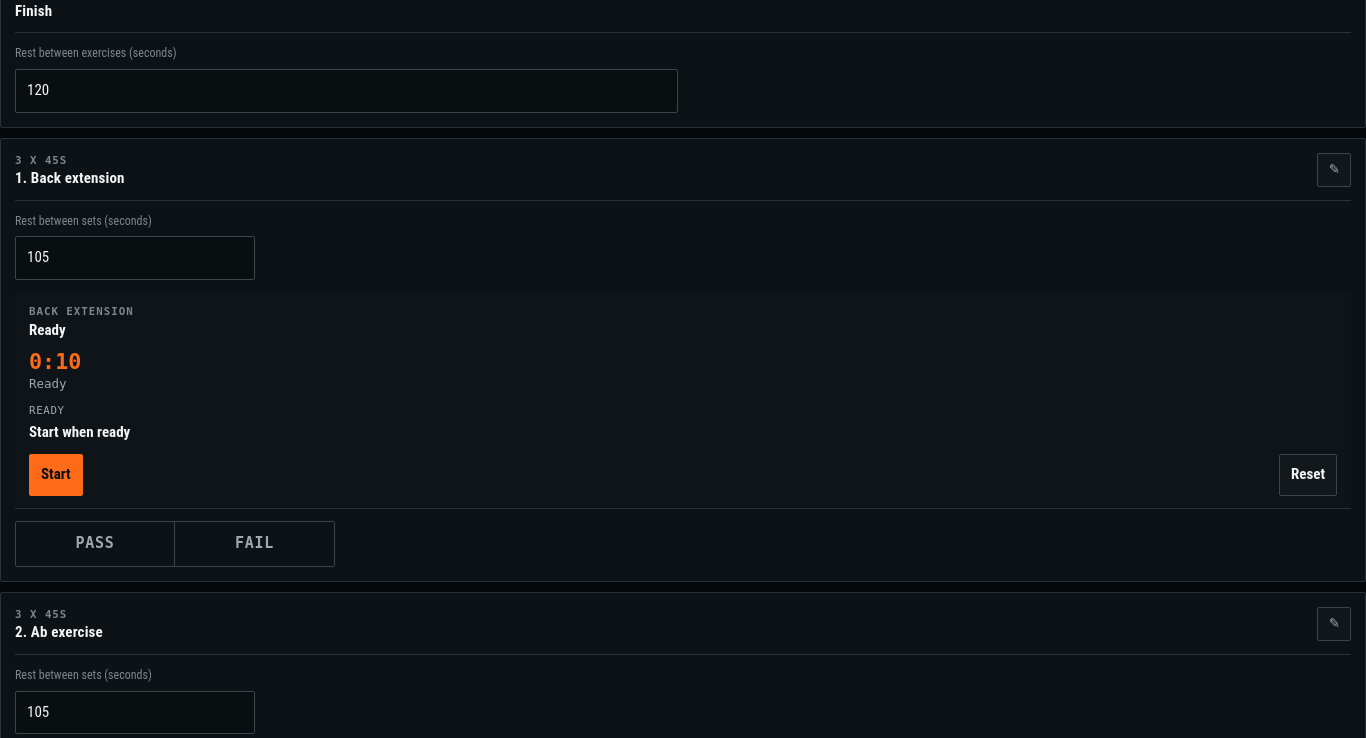
Test: FinishWorkoutScreen › allows only one manually started Finish exercise timer to run
Click the button "Start" at (56,475), box x1=29 y1=454 x2=83 y2=496
(page scrolled)
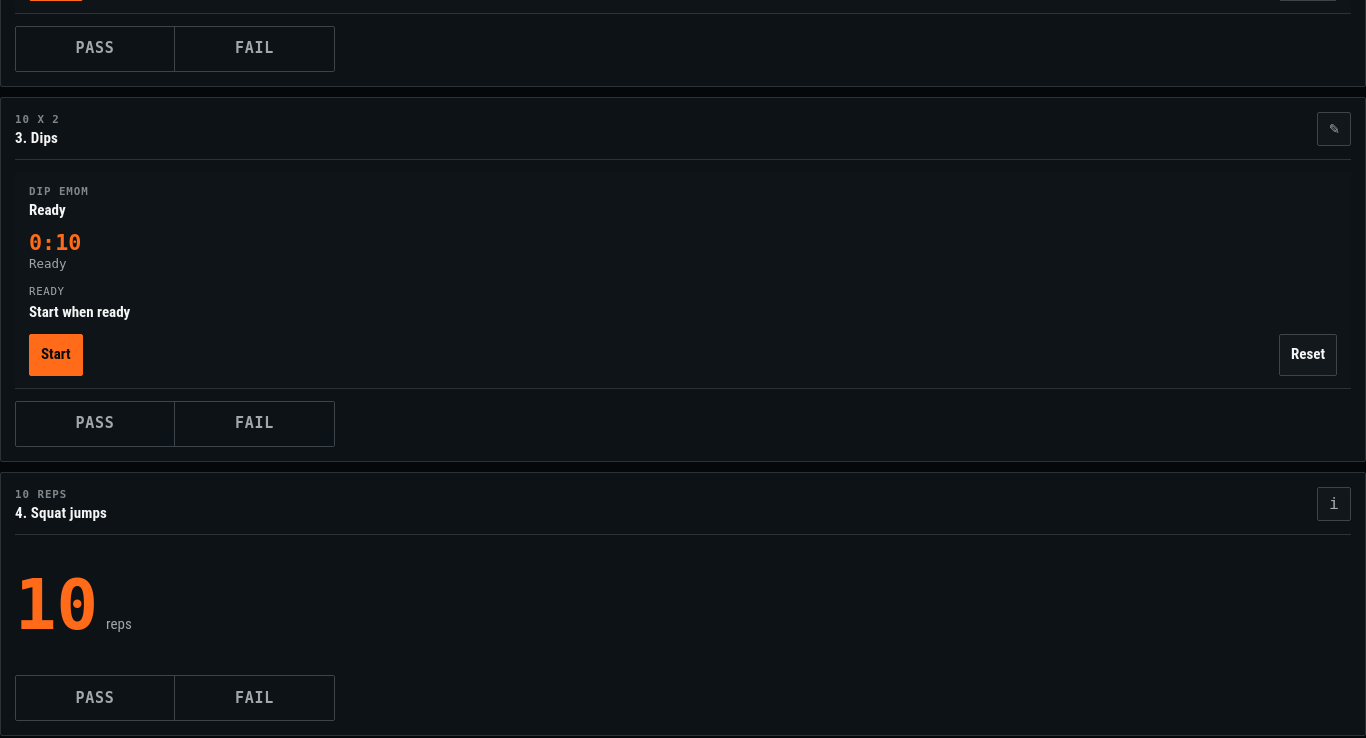
Click the button "Start" below "Dip EMOM" at (56,355), box x1=29 y1=334 x2=83 y2=376
(page scrolled)
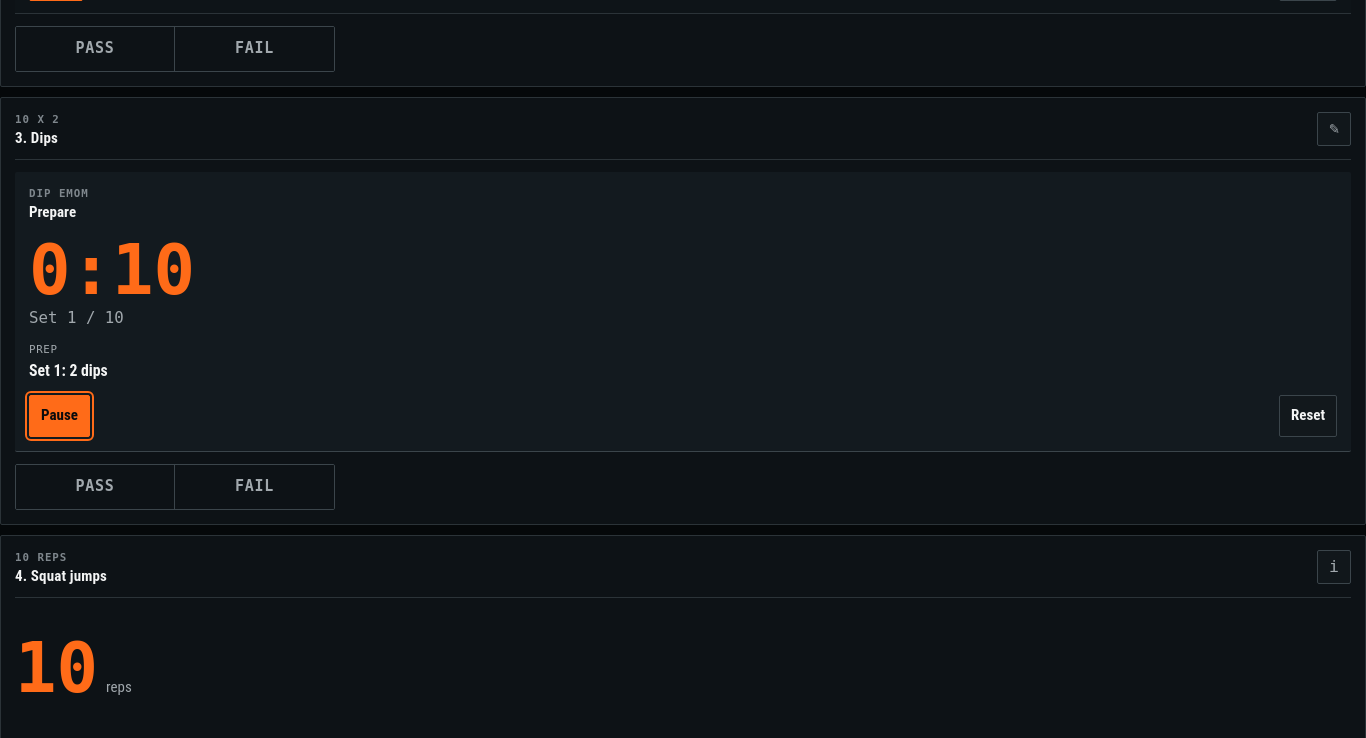
Check: the button "Pause" is shown, box x1=29 y1=395 x2=90 y2=437
